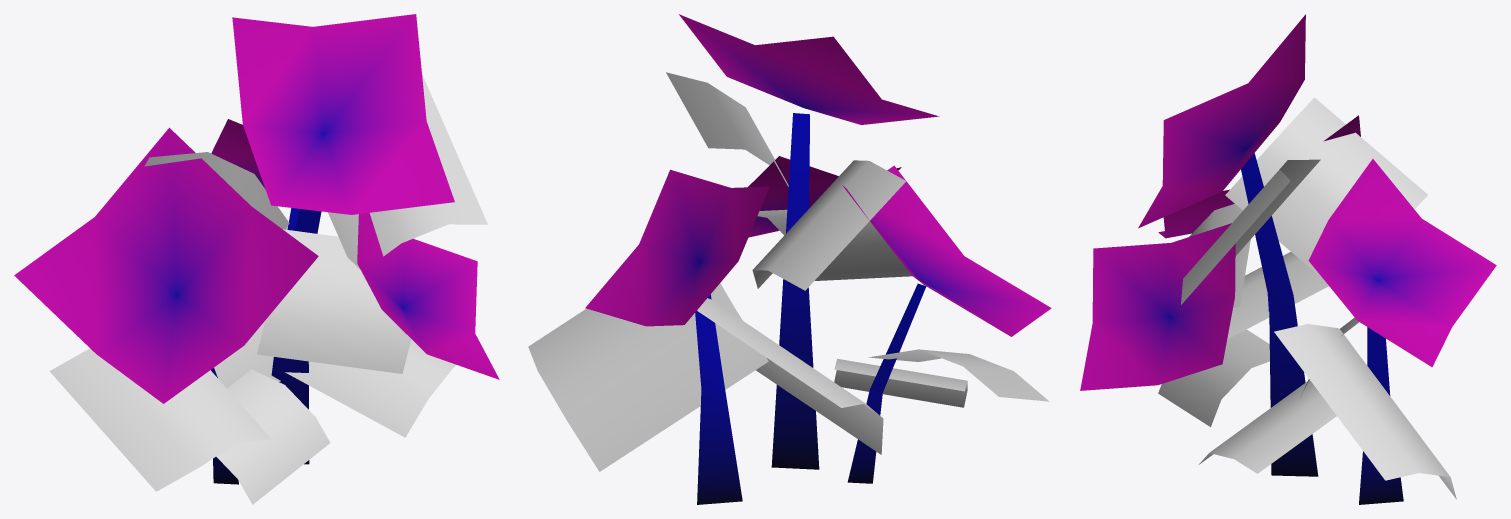
Rendered from Flower_06.fbx.
3 renders of one model, left to right at view 1: azimuth 30°, elevation 25°; view 2: azimuth 150°, elevation 25°; view 3: azimuth 270°, elevation 25°, orthographic. The views are drawn at different scales.
Visible parts, largest first — view 1: Flower_06; view 2: Flower_06; view 3: Flower_06.
Boxes of the visible parts, x1,y1,x2,y2 form: Flower_06: [14, 14, 499, 504]; Flower_06: [528, 14, 1051, 504]; Flower_06: [1080, 14, 1496, 504].
Bounding box in the file's own units: 0.3634 × 0.3458 × 0.2926.
